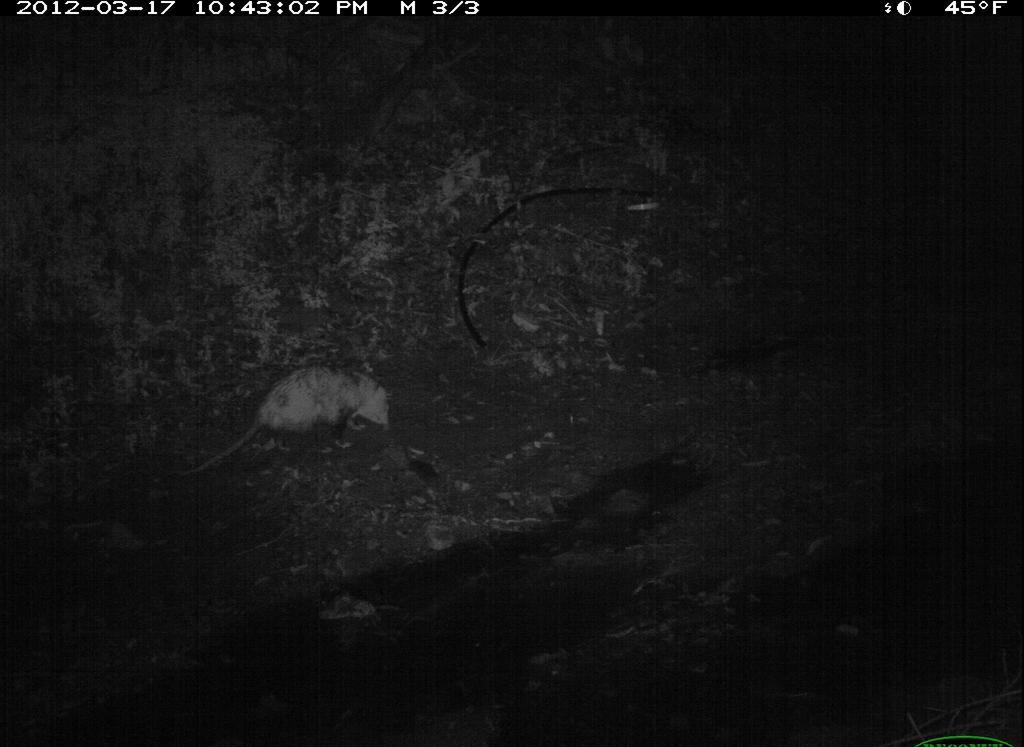opossum: (168, 361, 423, 479)
